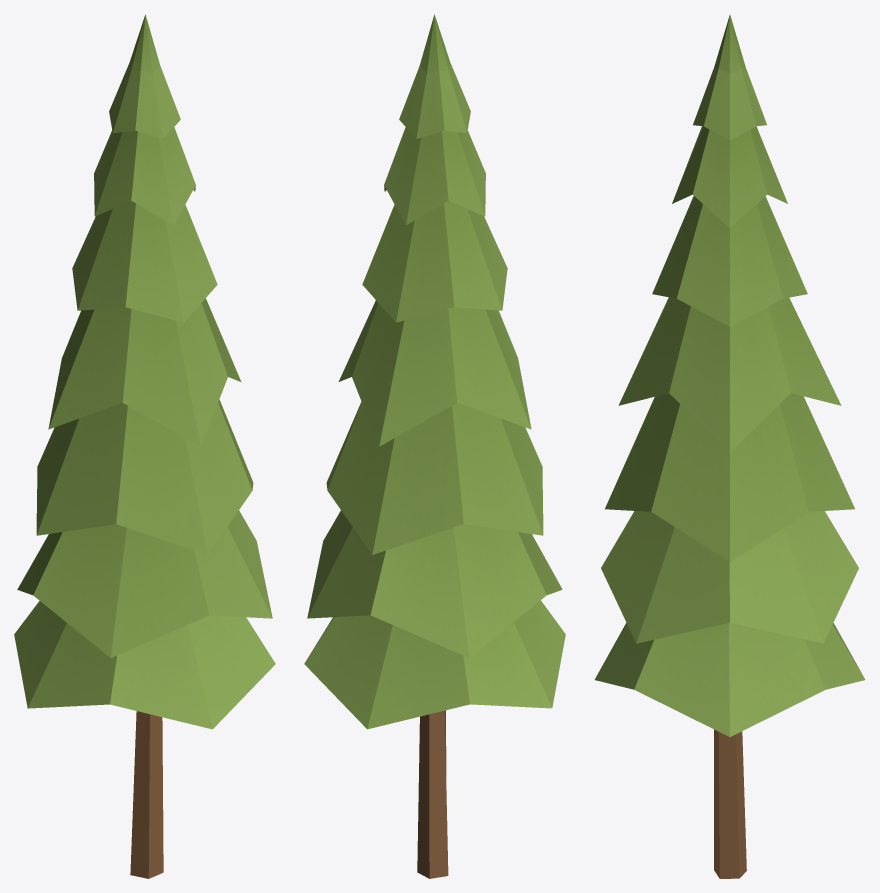
Rendered from Pine_Tree_l_BT_03.fbx.
The picture shows the model from 3 angles, left to right: view 1: azimuth 30°, elevation 25°; view 2: azimuth 150°, elevation 25°; view 3: azimuth 270°, elevation 25°; orthographic projection.
Visible parts, largest first — view 1: Pine_Tree_l_BT_03; view 2: Pine_Tree_l_BT_03; view 3: Pine_Tree_l_BT_03.
Part boxes in pixels (x1,y1,x2,y2): Pine_Tree_l_BT_03: (14, 14, 275, 878); Pine_Tree_l_BT_03: (304, 14, 565, 878); Pine_Tree_l_BT_03: (594, 15, 865, 878).
Bounding box in the file's own units: 558 × 1950 × 558.
